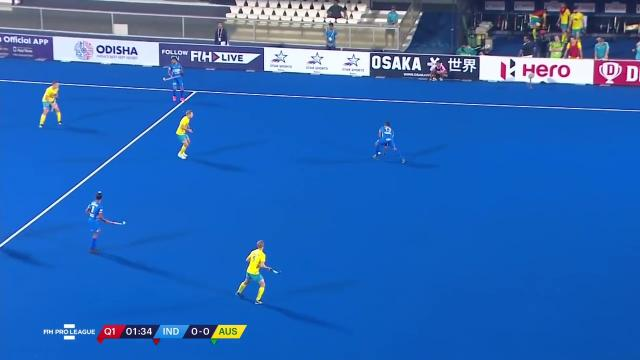ball: (376, 151, 382, 155)
